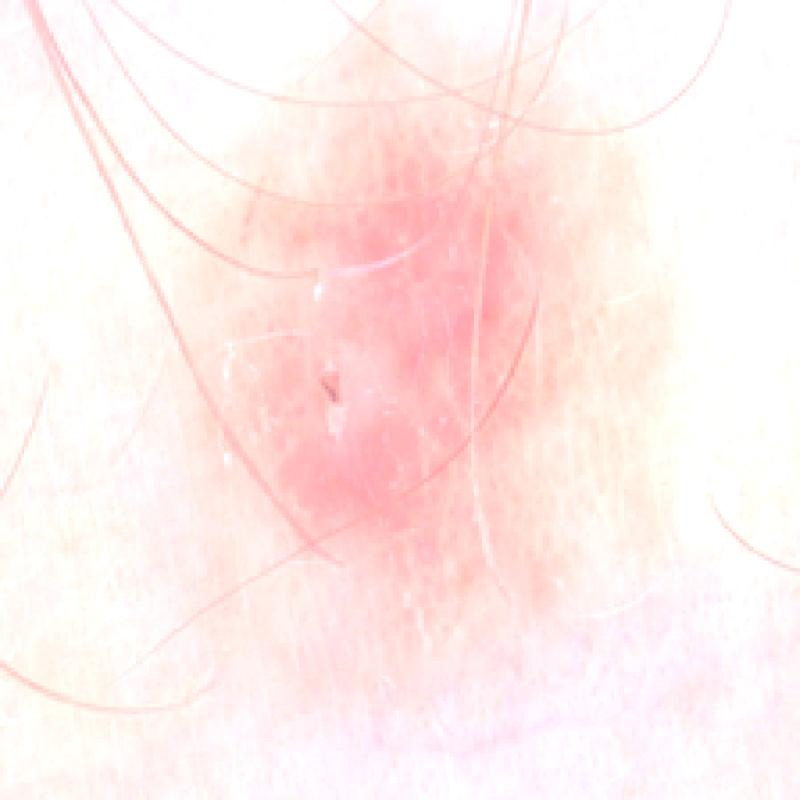benign: (178, 55, 610, 558)
